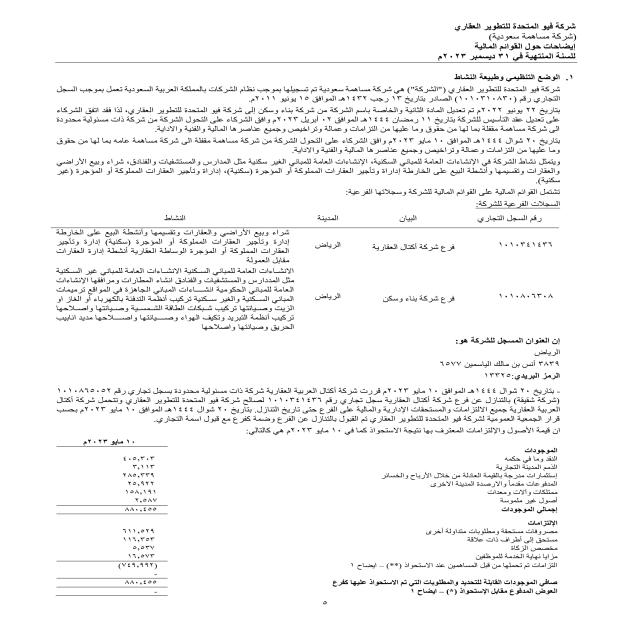notes: (468, 40, 592, 52)
table: (39, 208, 559, 336), (30, 428, 184, 610)
